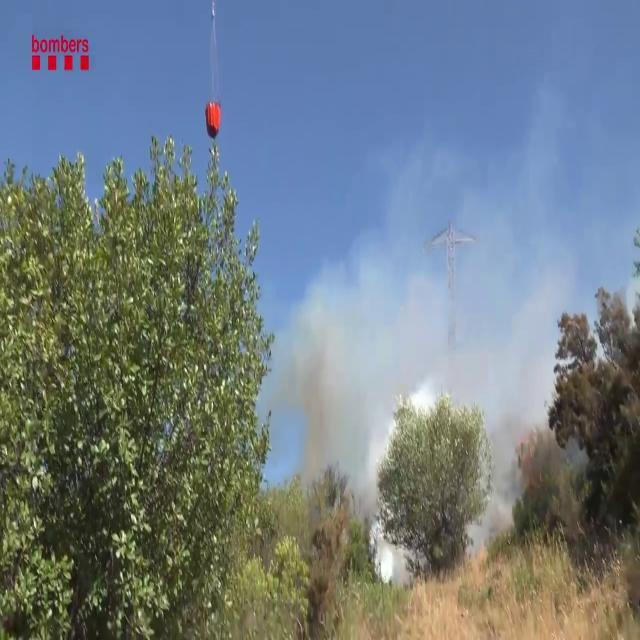Smoke: (254, 142, 548, 554)
